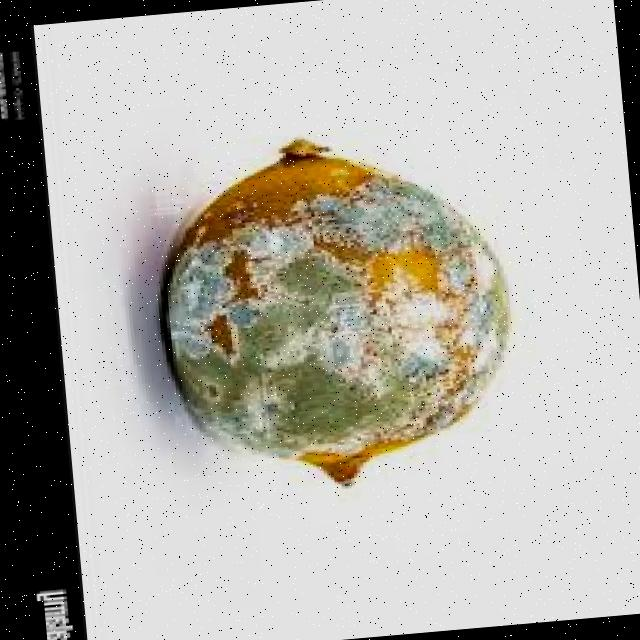Rotten: (146, 120, 527, 502)
